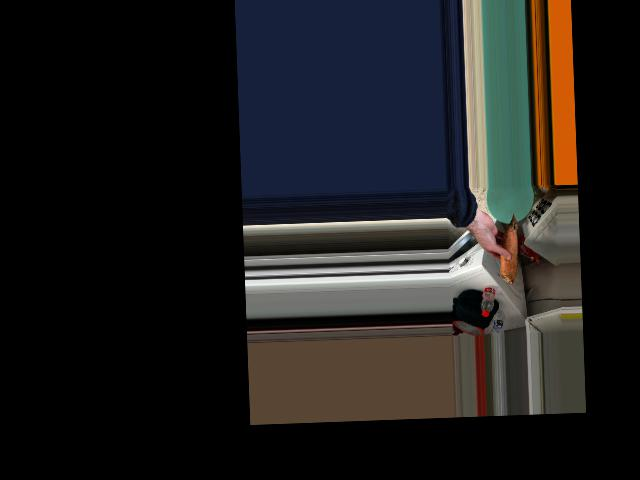sweet_potato: (494, 216, 518, 277)
